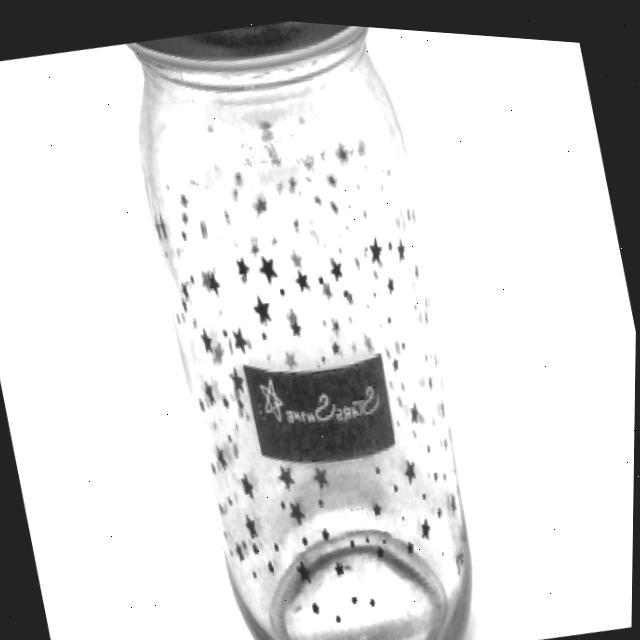glass: (126, 17, 480, 640)
